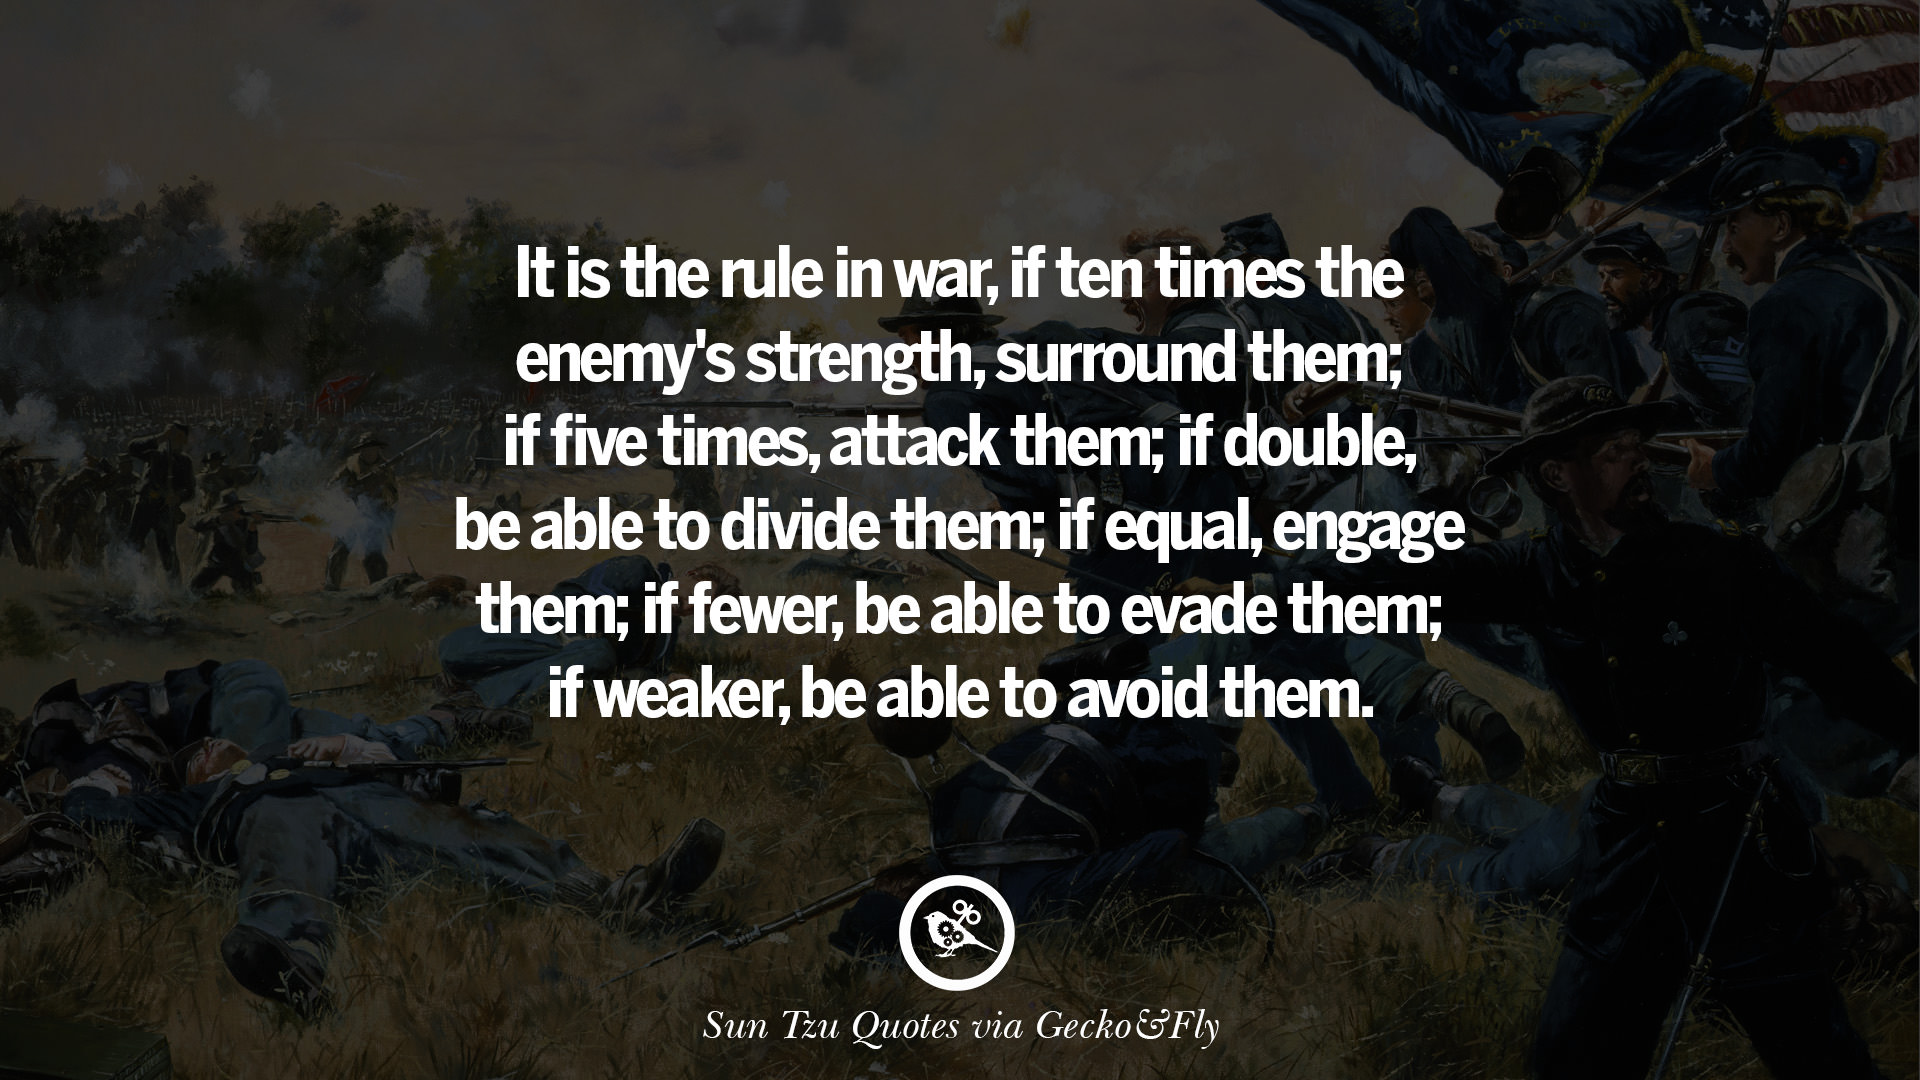latin: (439, 235, 1472, 721)
